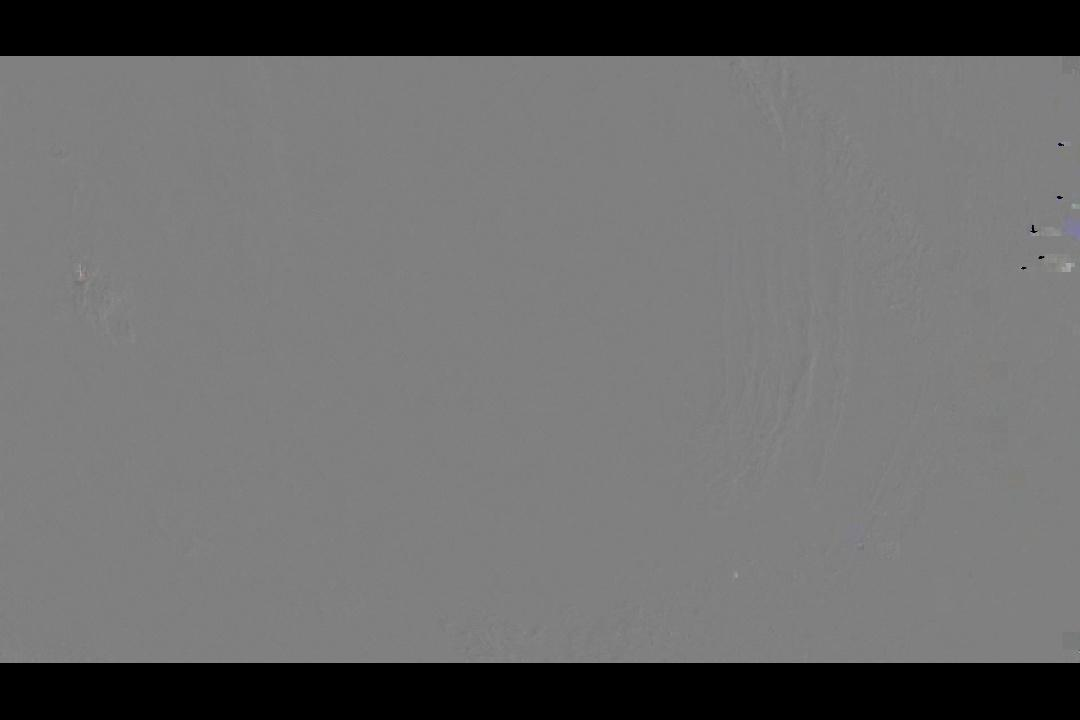WildLife: (1046, 191, 1076, 204), (1027, 219, 1040, 236), (1052, 139, 1069, 150), (1036, 252, 1048, 260), (1019, 264, 1030, 272)
